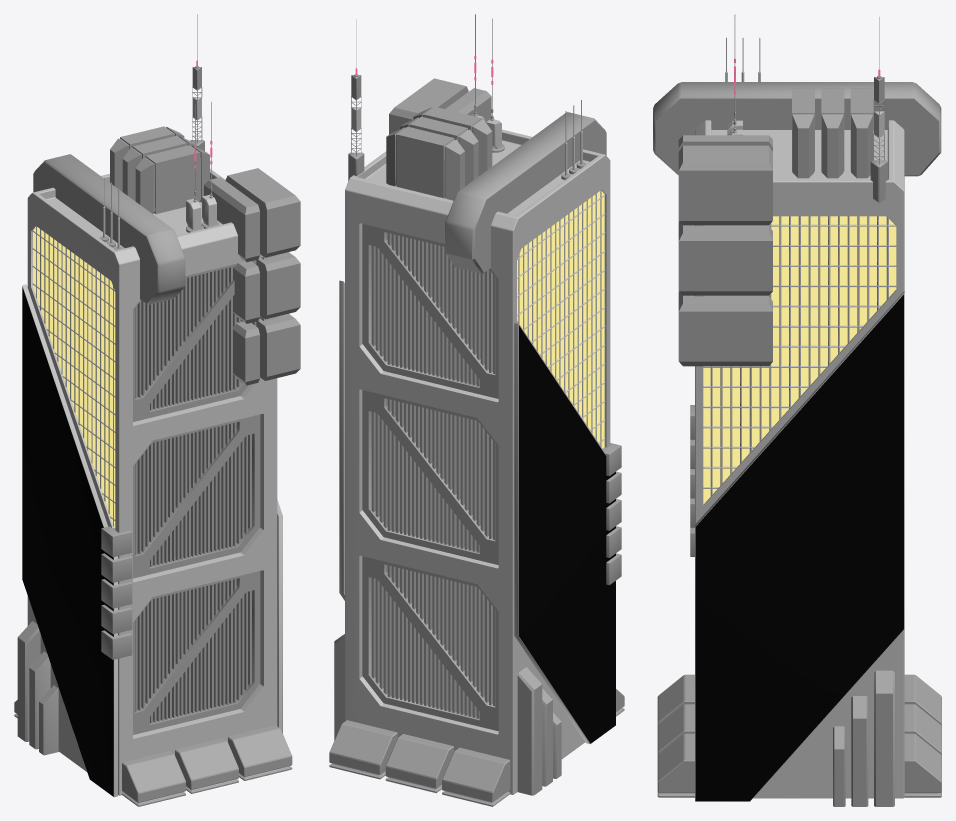
3 views of the same model, side by side, from view 1: azimuth 30°, elevation 25°; view 2: azimuth 150°, elevation 25°; view 3: azimuth 270°, elevation 25° (orthographic). The views are drawn at different scales.
Parts seen in each view (by area): view 1: Boole_4_Antenna_02_0, SideDiagonalElement_Poster_07_0, WindowPlane_Windows_0, TopBigElement_3_Base_03_0, Plane_5_Base_01_0, SideDetail_2_2_Base_03_0, SideDetail_2_Base_03_0, TopElement_0_Antenna_03_0, TopCube_0_3_Base_03_0, SideDiagonalElement_Base_01_0, SideDetail_2_3_Base_03_0, Cube_0_10_Base_03_0 (+43 smaller); view 2: Boole_4_Antenna_02_0, SideDiagonalElement_Poster_07_0, WindowPlane_Windows_0, TopBigElement_3_Base_03_0, Plane_5_Base_01_0, SideDetail_2_5_Base_03_0, SideDetail_2_4_Base_03_0, SideDetail_2_6_Base_03_0, TopElement_0_3_Antenna_03_0, Cube_7_8_Base_03_0, SideDiagonalElement_Base_01_0, Cube_0_10_Base_03_0 (+54 smaller); view 3: SideDiagonalElement_Poster_07_0, Boole_4_Antenna_02_0, WindowPlane_Windows_0, TopBigElement_3_Base_03_0, Plane_5_Base_01_0, TopCube_0_3_Base_03_0, TopCube_0_Base_03_0, TopCube_0_2_Base_03_0, Cube_0_10_3_Base_03_0, Cube_7_8_Base_03_0, Cube_0_10_Base_03_0, Cube_0_10_2_Base_03_0 (+8 smaller).
Boxes of the visible parts, bbox=[...] form: Boole_4_Antenna_02_0: bbox=[27, 168, 277, 795]; SideDiagonalElement_Poster_07_0: bbox=[22, 287, 113, 796]; WindowPlane_Windows_0: bbox=[33, 227, 115, 527]; TopBigElement_3_Base_03_0: bbox=[33, 154, 185, 304]; Plane_5_Base_01_0: bbox=[32, 226, 115, 526]; SideDetail_2_2_Base_03_0: bbox=[133, 414, 260, 578]; SideDetail_2_Base_03_0: bbox=[133, 571, 260, 734]; TopElement_0_Antenna_03_0: bbox=[135, 145, 209, 213]; TopCube_0_3_Base_03_0: bbox=[225, 168, 300, 257]; SideDiagonalElement_Base_01_0: bbox=[22, 284, 282, 797]; SideDetail_2_3_Base_03_0: bbox=[133, 260, 260, 421]; Cube_0_10_Base_03_0: bbox=[14, 700, 185, 806]; Boole_4_Antenna_02_0: bbox=[345, 129, 610, 794]; SideDiagonalElement_Poster_07_0: bbox=[519, 325, 615, 743]; WindowPlane_Windows_0: bbox=[517, 191, 604, 448]; TopBigElement_3_Base_03_0: bbox=[445, 112, 606, 273]; Plane_5_Base_01_0: bbox=[517, 190, 605, 446]; SideDetail_2_5_Base_03_0: bbox=[362, 390, 498, 564]; SideDetail_2_4_Base_03_0: bbox=[362, 556, 498, 731]; SideDetail_2_6_Base_03_0: bbox=[362, 224, 498, 398]; TopElement_0_3_Antenna_03_0: bbox=[386, 126, 464, 200]; Cube_7_8_Base_03_0: bbox=[334, 634, 542, 795]; SideDiagonalElement_Base_01_0: bbox=[339, 280, 615, 743]; Cube_0_10_Base_03_0: bbox=[442, 689, 624, 806]; SideDiagonalElement_Poster_07_0: bbox=[695, 295, 903, 801]; Boole_4_Antenna_02_0: bbox=[695, 120, 904, 798]; WindowPlane_Windows_0: bbox=[703, 216, 896, 503]; TopBigElement_3_Base_03_0: bbox=[653, 82, 941, 176]; Plane_5_Base_01_0: bbox=[703, 216, 896, 496]; TopCube_0_3_Base_03_0: bbox=[678, 145, 772, 225]; TopCube_0_Base_03_0: bbox=[678, 292, 772, 366]; TopCube_0_2_Base_03_0: bbox=[678, 221, 772, 295]; Cube_0_10_3_Base_03_0: bbox=[657, 733, 941, 797]; Cube_7_8_Base_03_0: bbox=[874, 670, 894, 806]; Cube_0_10_Base_03_0: bbox=[657, 674, 941, 725]; Cube_0_10_2_Base_03_0: bbox=[657, 704, 941, 755].
Bounding box in the file's own units: 28.56 × 98.64 × 32.99.
